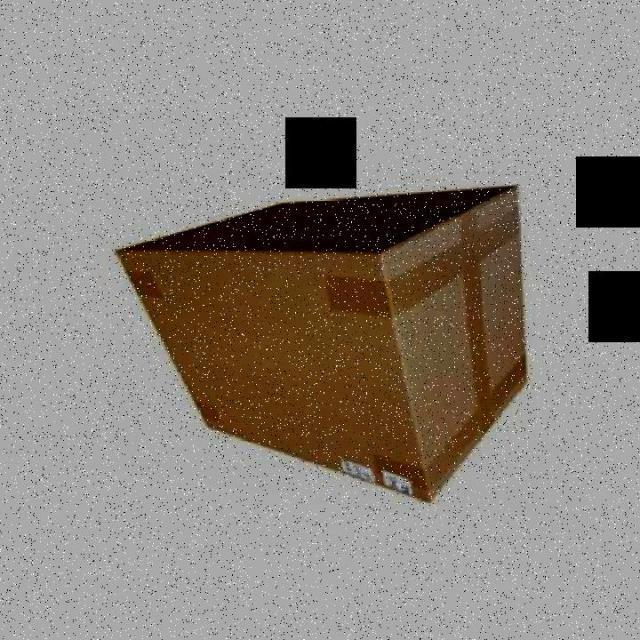box: (112, 170, 537, 512)
